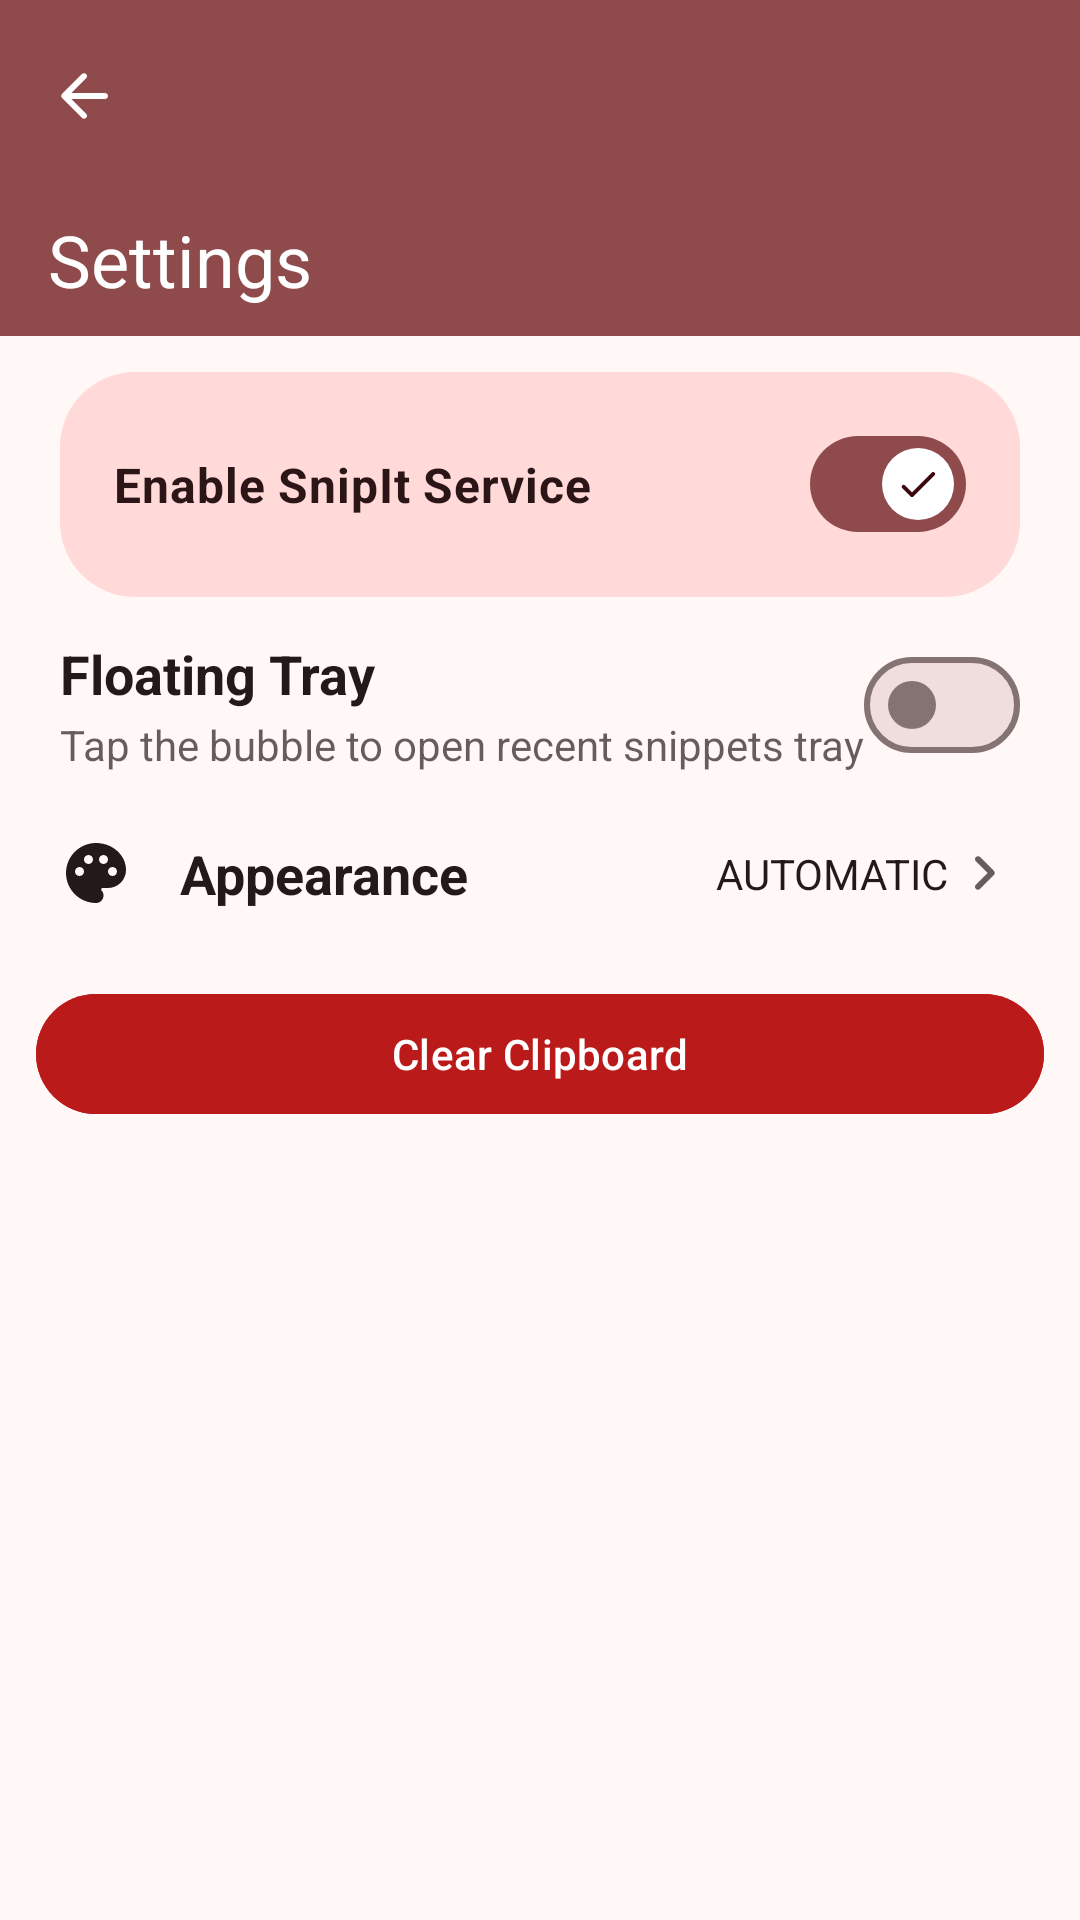

Screen size 1080w x 1920h. Icon name, then its box in pixels as (x1, y1, x2, y2):
chevron right: (975, 856, 995, 890)
palette: (66, 843, 126, 903)
